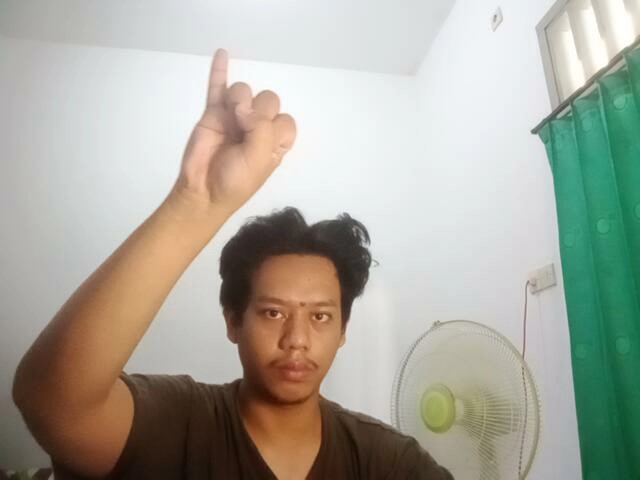I: (151, 38, 309, 210)
